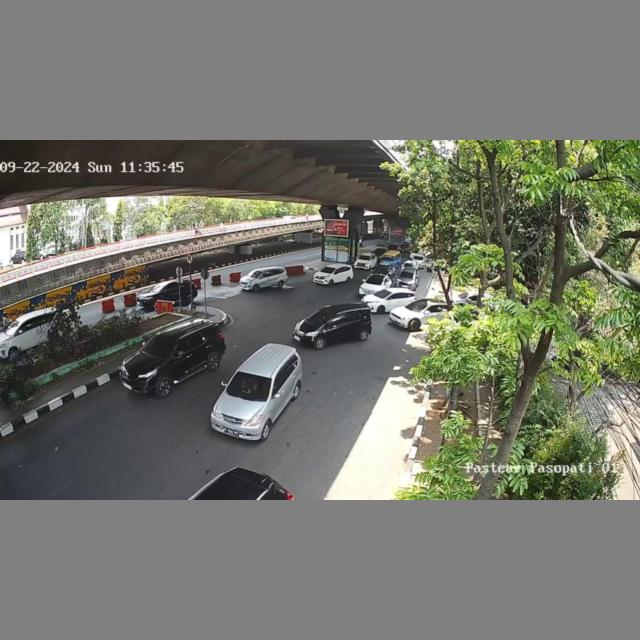windshield: (225, 372, 271, 400), (141, 337, 176, 357), (306, 309, 332, 326), (365, 277, 385, 286), (319, 266, 336, 274), (374, 290, 390, 298)
